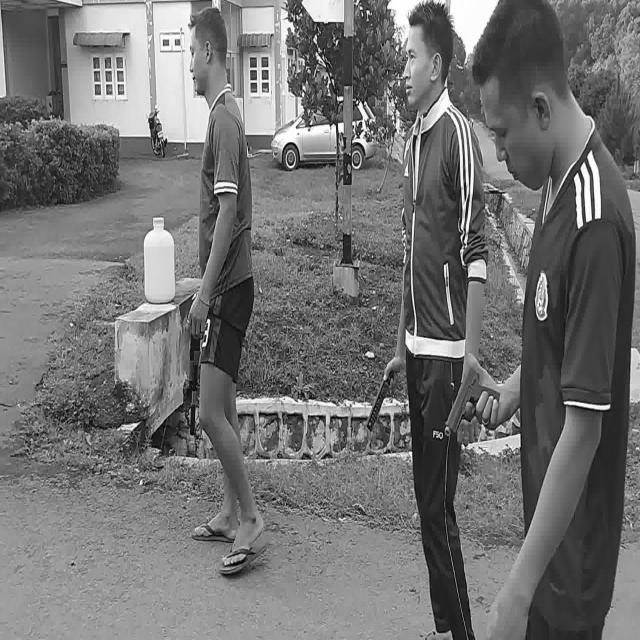gun: (446, 370, 499, 436), (188, 332, 200, 436)
